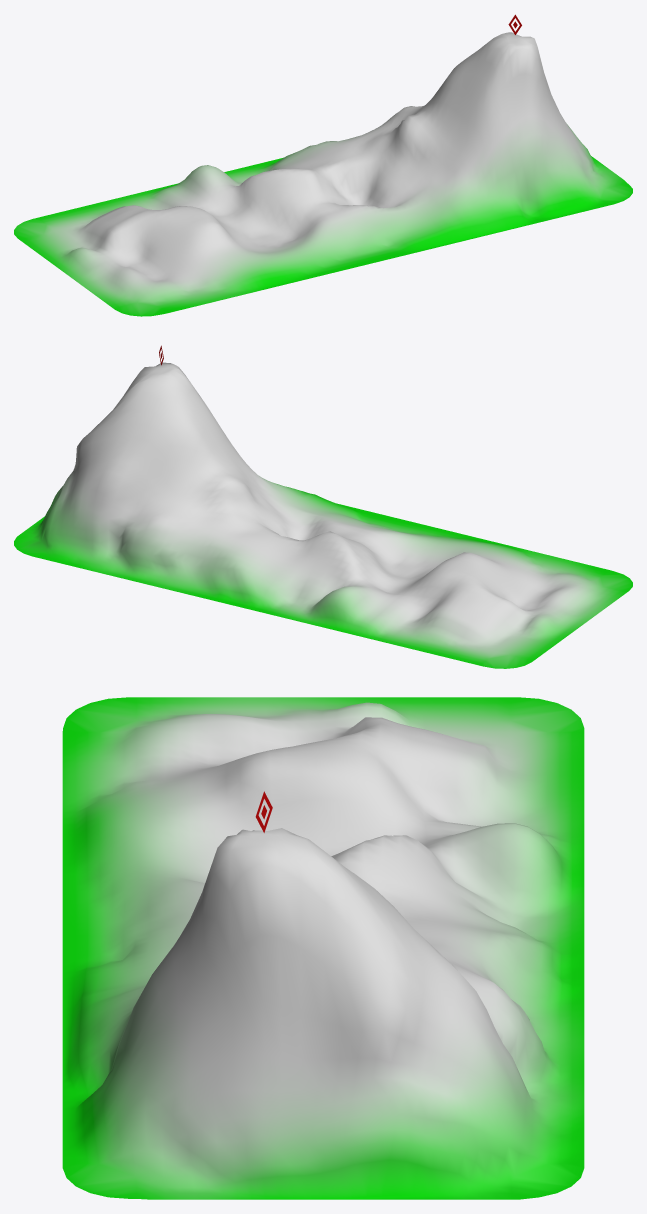
Rendered from Prop_HologramMap2.gltf.
3 renders of one model, top to bottom at view 1: azimuth 30°, elevation 25°; view 2: azimuth 150°, elevation 25°; view 3: azimuth 270°, elevation 25°, orthographic. The views are drawn at different scales.
Parts seen in each view (by area): view 1: Prop_HologramMap2; view 2: Prop_HologramMap2; view 3: Prop_HologramMap2.
Part boxes in pixels (x1,y1,x2,y2): Prop_HologramMap2: (14,14,632,316); Prop_HologramMap2: (14,345,632,668); Prop_HologramMap2: (62,697,584,1199).
Size of the model in its own units: 3.6 by 1.1 by 1.58.
